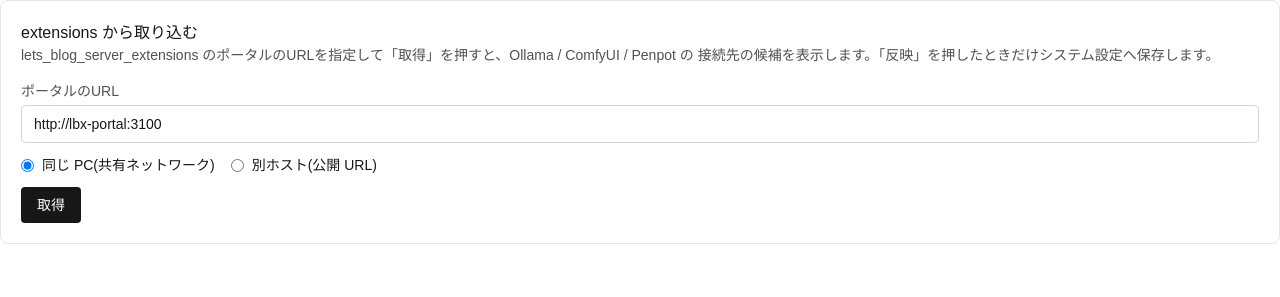
Test: ExtensionsImportPanel(issue #1783) › 取得に失敗したら原因をalertで出し、候補は出さない
The image size is (1280, 297).
Click the button "取得" at coordinates (51, 205), box 21,187 -> 81,223
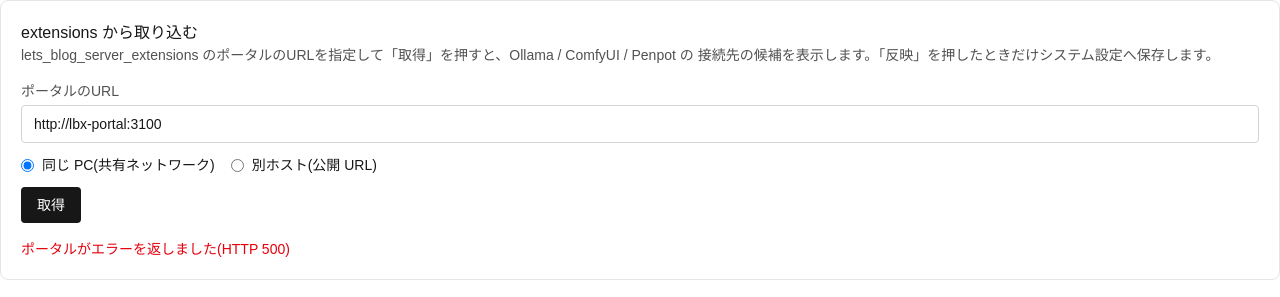
Expected: the message reads "ポータルがエラーを返しました(HTTP 500)", 21,241 -> 290,257
